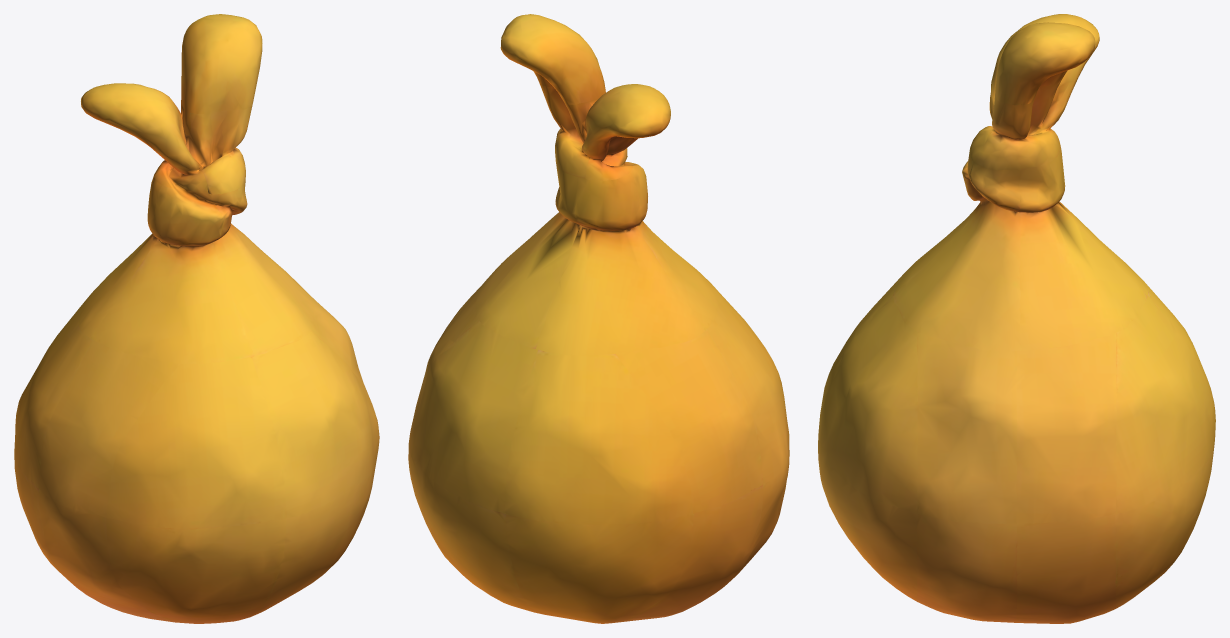
File: bojagi.glb
The picture shows the model from 3 angles, left to right: view 1: azimuth 30°, elevation 25°; view 2: azimuth 150°, elevation 25°; view 3: azimuth 270°, elevation 25°; orthographic projection. The views are drawn at different scales.
Parts seen in each view (by area): view 1: tmps5rolufwobj; view 2: tmps5rolufwobj; view 3: tmps5rolufwobj.
Boxes of the visible parts, left/top/right/bottom form: tmps5rolufwobj: left=14, top=14, right=379, bottom=623; tmps5rolufwobj: left=408, top=14, right=789, bottom=623; tmps5rolufwobj: left=818, top=14, right=1215, bottom=623.
Size of the model in its own units: 0.6047 by 0.9999 by 0.6153.
Materials: 1 (1 with a texture image).
